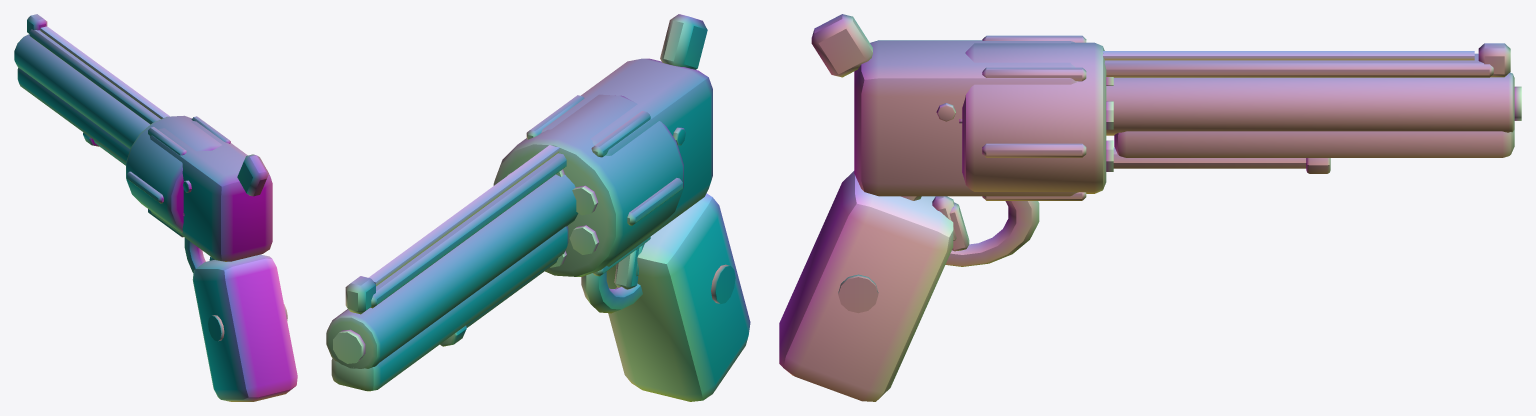
The model's file is wpn_revolver.glb.
3 views of the same model, side by side, from view 1: azimuth 30°, elevation 25°; view 2: azimuth 150°, elevation 25°; view 3: azimuth 270°, elevation 25° (orthographic). The views are drawn at different scales.
Visible parts, largest first — view 1: wpn_revolver_mesh; view 2: wpn_revolver_mesh; view 3: wpn_revolver_mesh.
Boxes of the visible parts, x1,y1,x2,y2 form: wpn_revolver_mesh: (14, 14, 297, 401); wpn_revolver_mesh: (326, 14, 750, 401); wpn_revolver_mesh: (779, 14, 1521, 401).
Size of the model in its own units: 0.0411 by 0.1025 by 0.1856.
